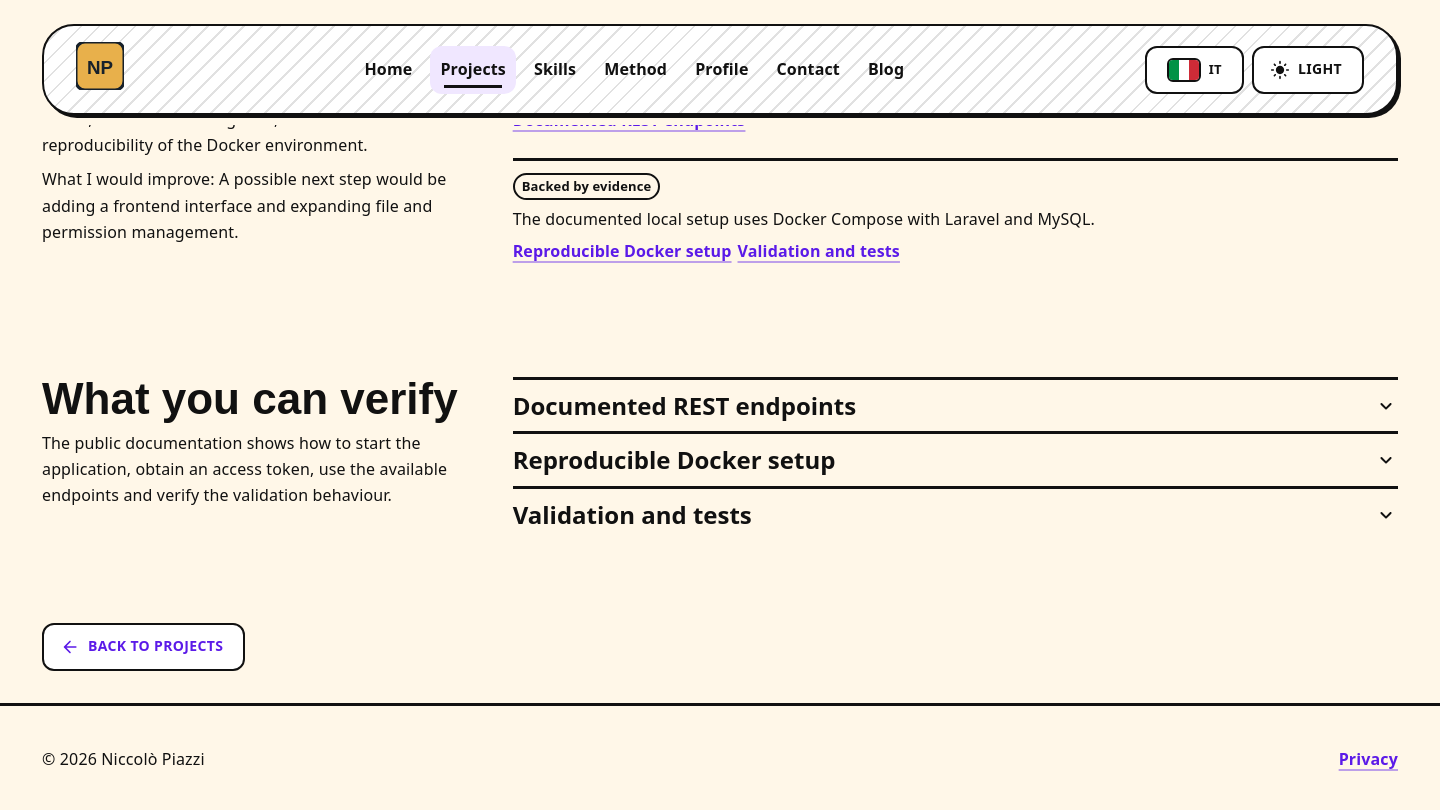
localized application routes › reveals linked evidence with native pointer and keyboard-operable disclosure
(page scrolled)
What coordinates should you click on to do the following:
click the heading "Documented REST endpoints"
I would click on:
 (684, 405)
Its box is [513,380,1398,431].
(page scrolled)
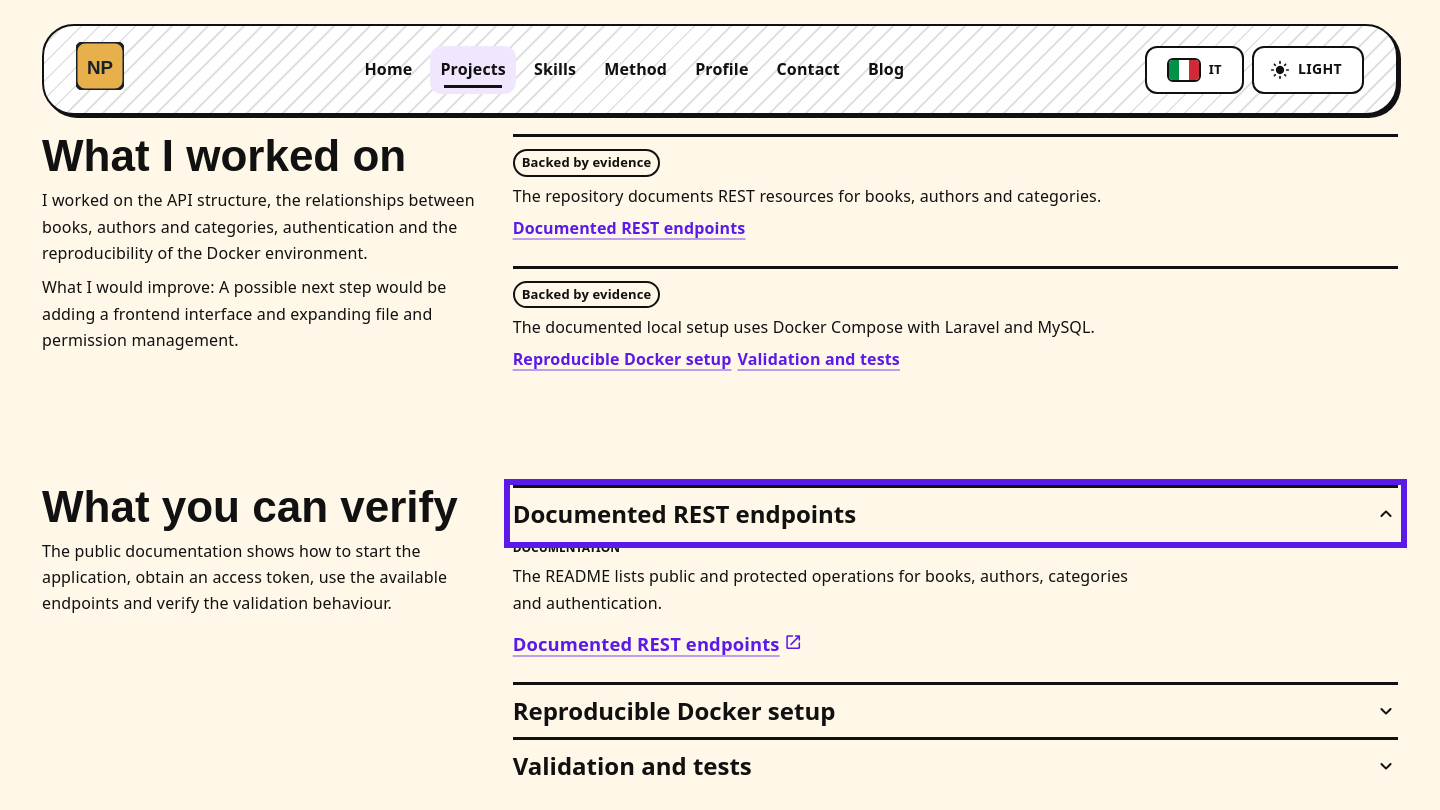
Now the text "The README lists public and protected operations" is shown, box [513,565,1128,614]
